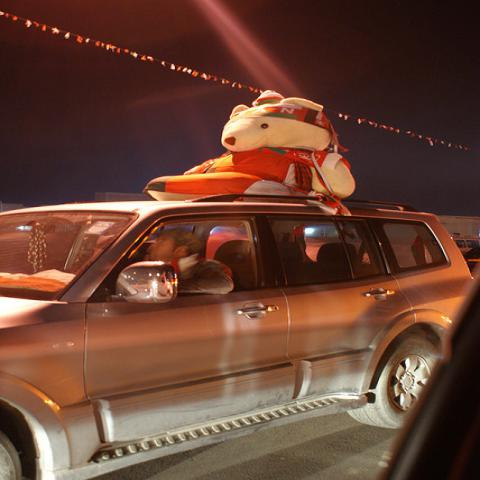car: (2, 192, 474, 474)
